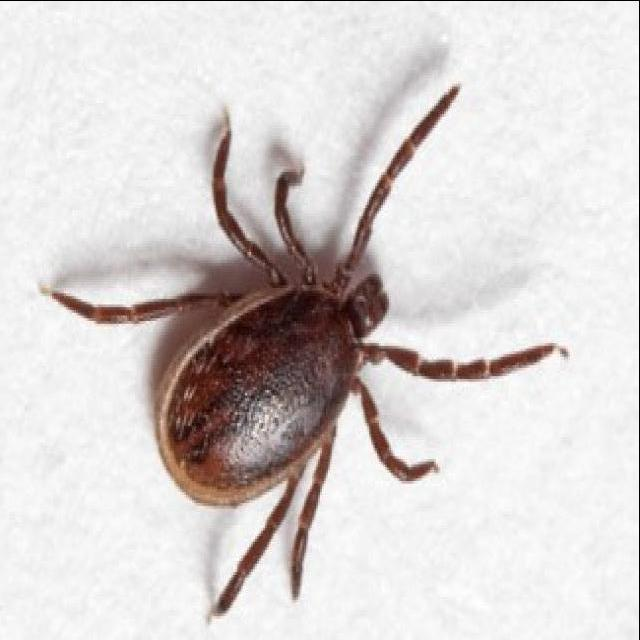Ixodes Ricinus-M: (41, 88, 569, 615)
